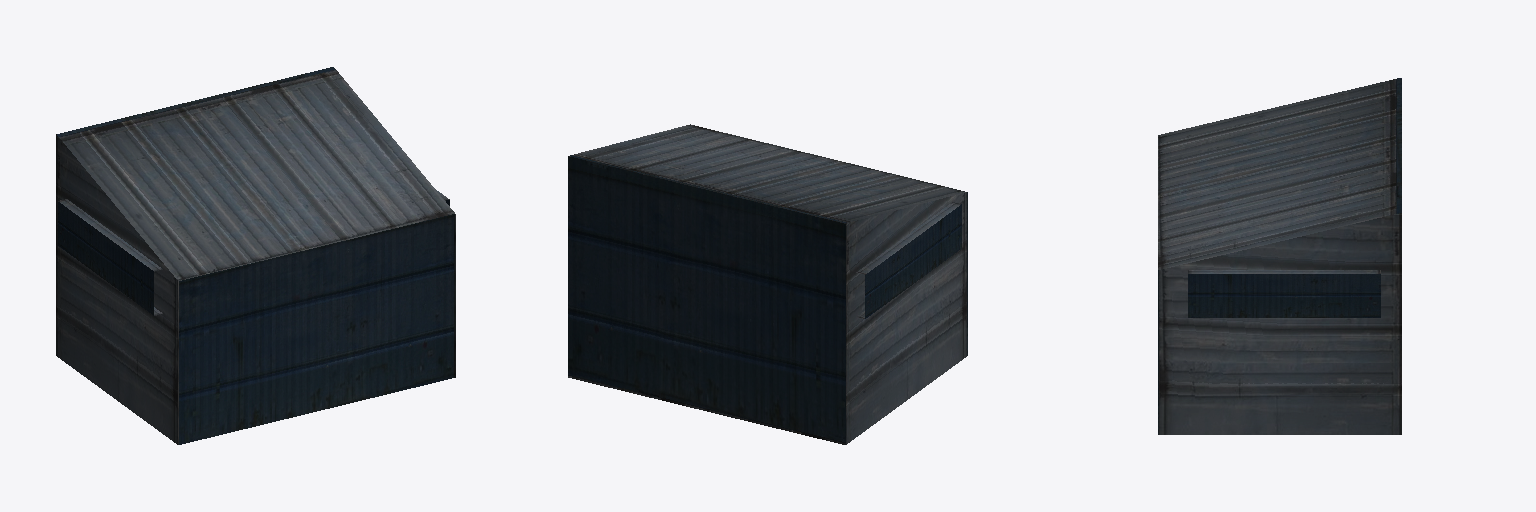
3 views of the same model, side by side, from view 1: azimuth 30°, elevation 25°; view 2: azimuth 150°, elevation 25°; view 3: azimuth 270°, elevation 25° (orthographic).
Visible parts, largest first — view 1: dumpster_2; view 2: dumpster_2; view 3: dumpster_2.
Boxes of the visible parts, <box> form: dumpster_2: <box>56,67,455,444</box>; dumpster_2: <box>568,124,967,444</box>; dumpster_2: <box>1158,78,1401,434</box>.
Size of the model in its own units: 1.67 by 1.2 by 1.19.
Materials: 1 (1 with a texture image).